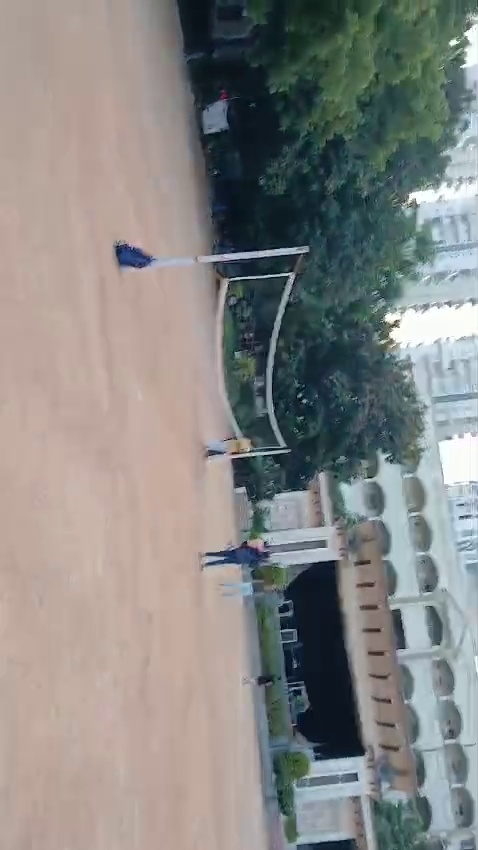bag: (104, 232, 162, 288)
